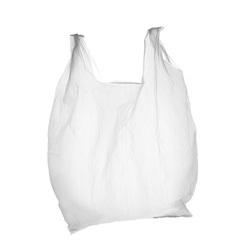LDPE: (14, 0, 247, 250)
